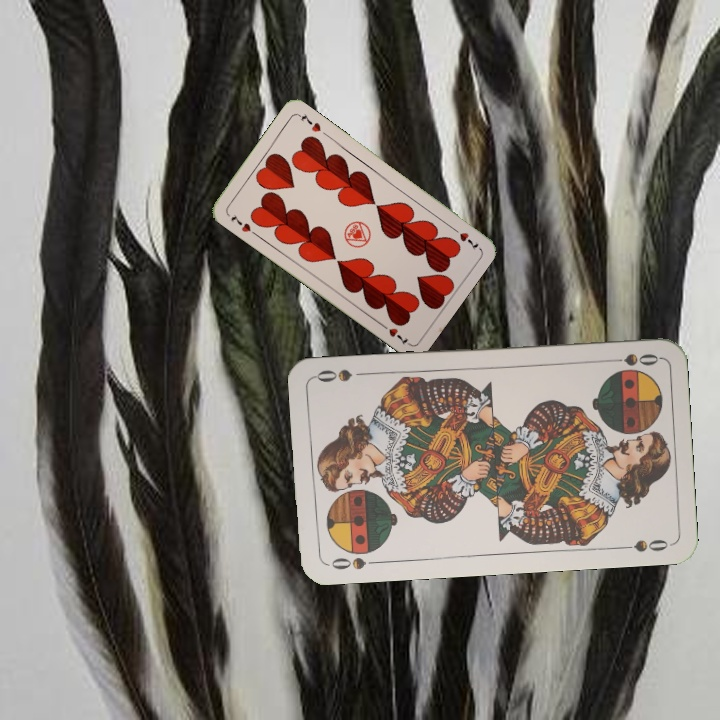H7: (447, 223, 481, 252), (226, 210, 254, 235)
SO: (602, 349, 661, 368), (323, 553, 382, 572)
